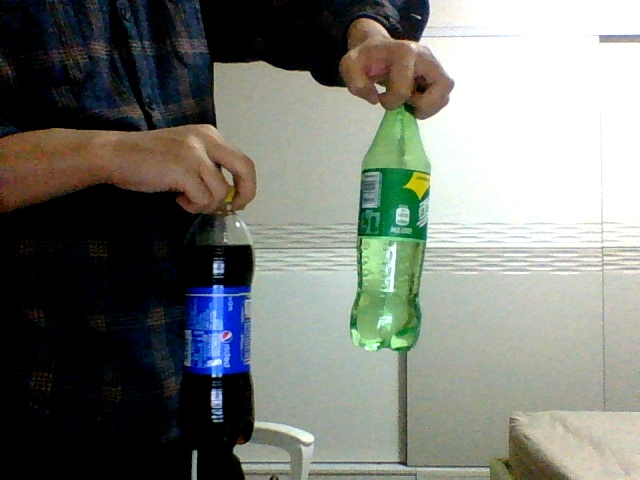Cola: (181, 192, 254, 446)
Sprite: (348, 104, 431, 351)
